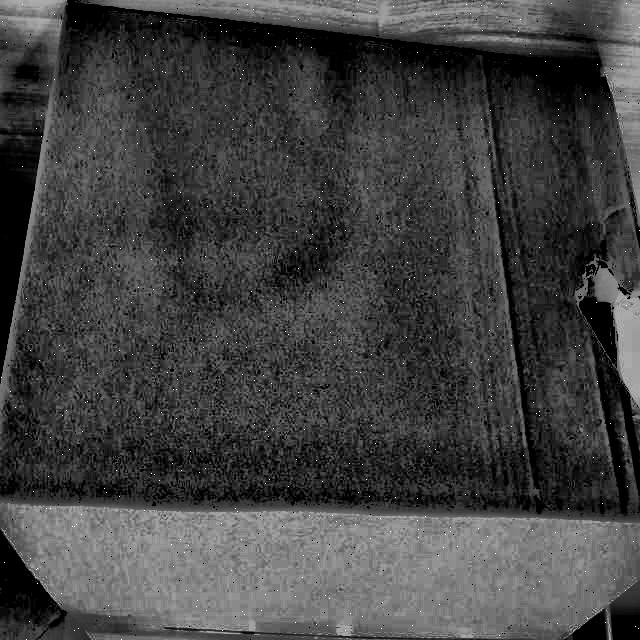box: (0, 1, 639, 640)
hole: (588, 293, 640, 437)
